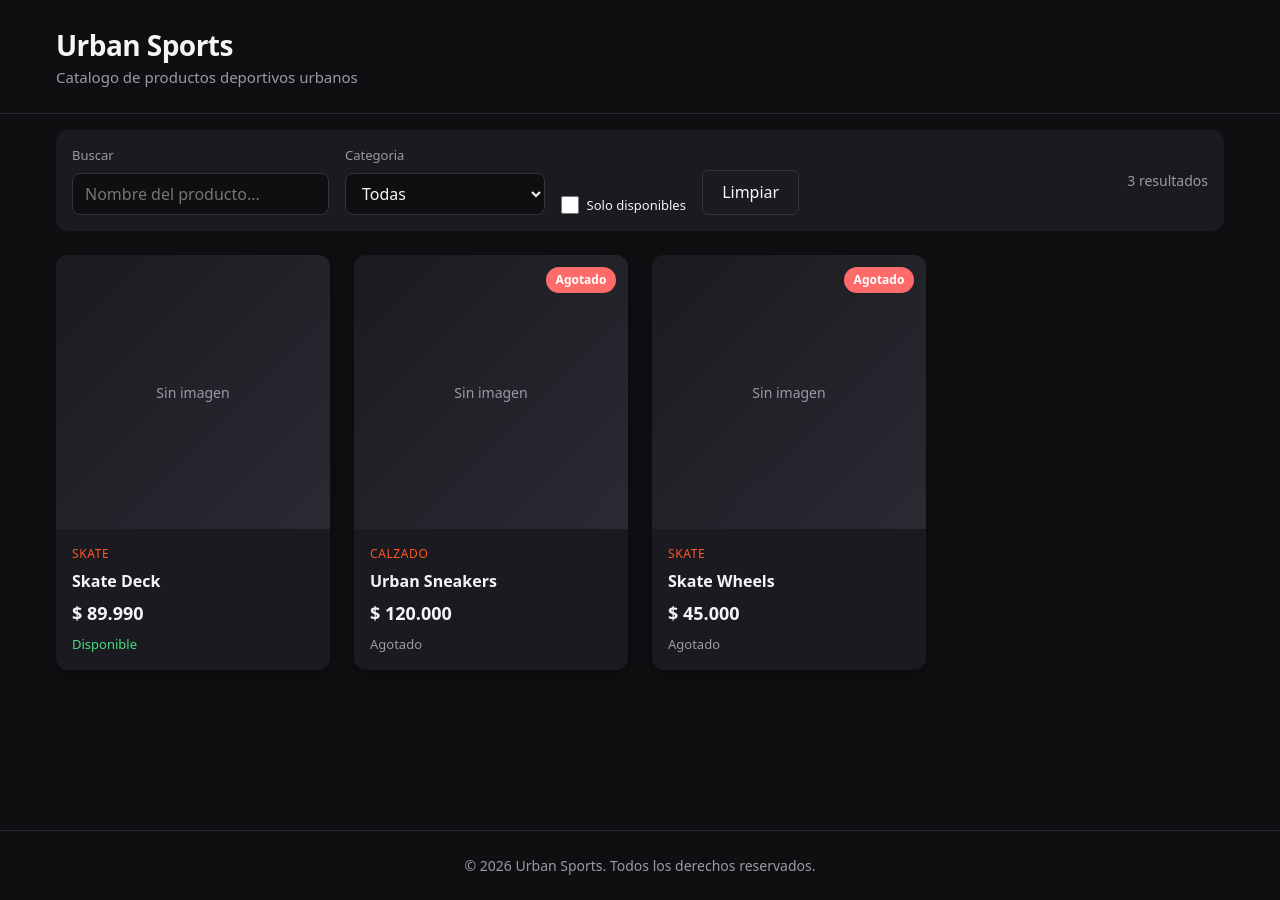
App - filtros (integracion) › el boton limpiar restaura todos los productos
The image size is (1280, 900).
Expected: the heading "Skate Deck" is shown, [72,570,160,592]
Type "sneakers" into the search field labelled "Buscar" at coordinates (200, 194), box [72,173,329,215]
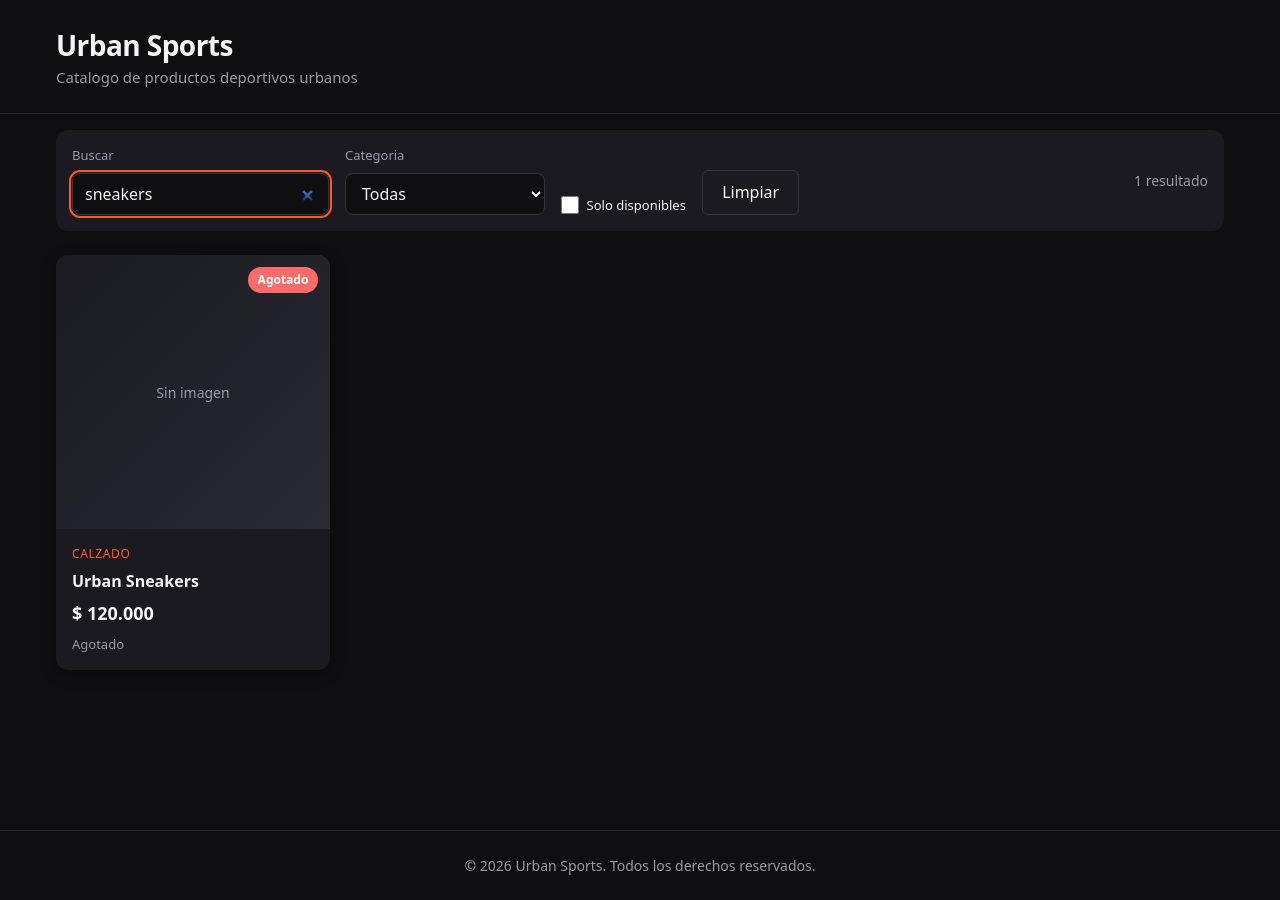
Now the heading "Skate Deck" is gone
Click the button "Limpiar" at coordinates (751, 192), box [702,170,799,215]
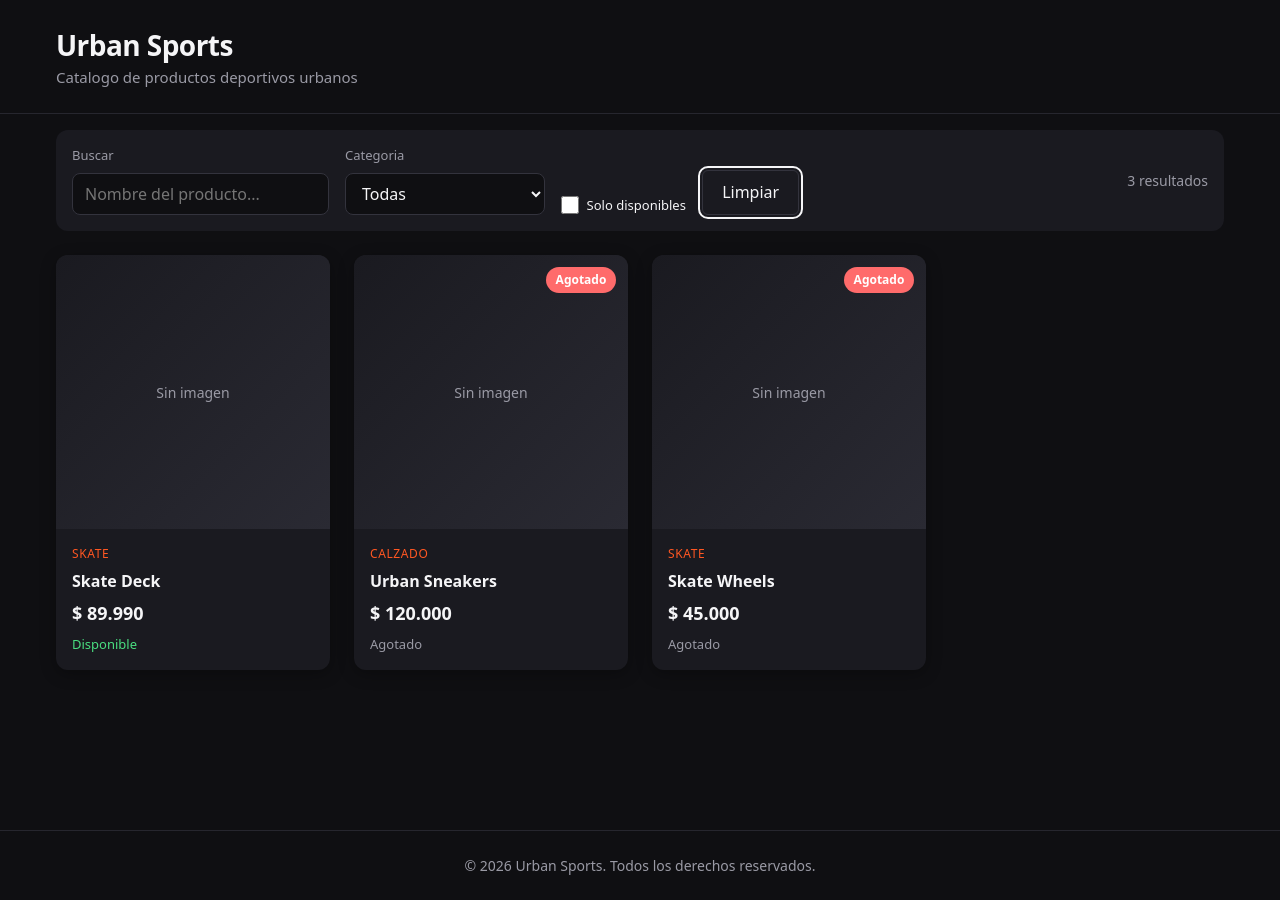
Expected: the heading "Urban Sneakers" is shown, [370,570,497,592]
Now the heading "Skate Deck" is shown, box [72,570,160,592]
